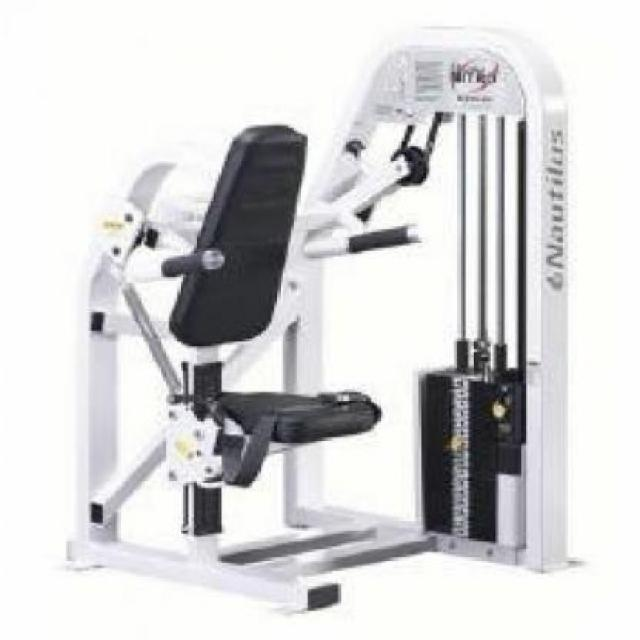seated dip machine: (63, 23, 592, 619)
